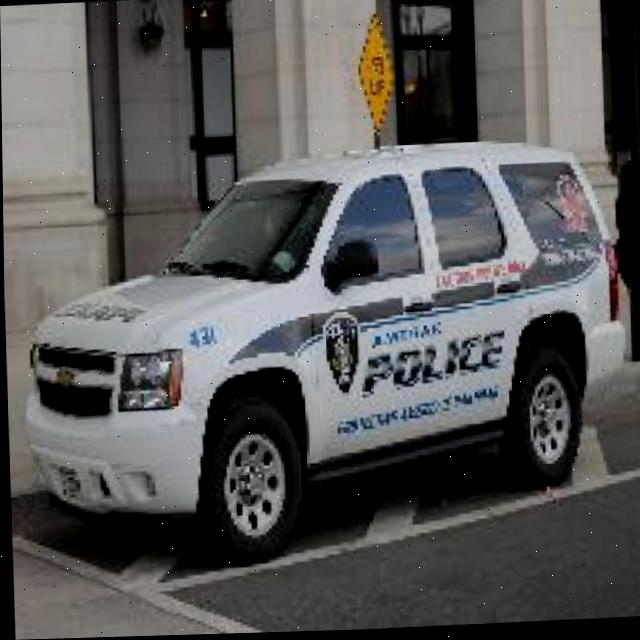emergency: (11, 127, 635, 572)
